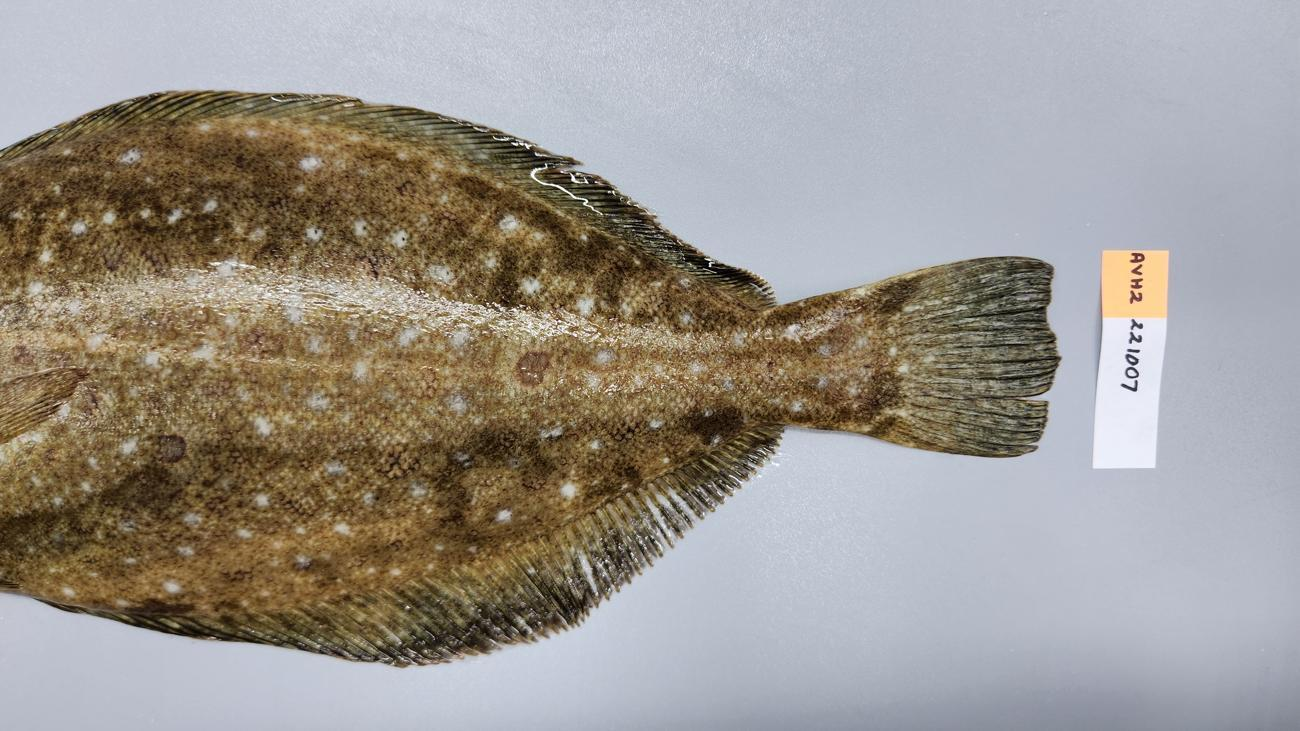VIDYH: (507, 228, 902, 508), (194, 319, 297, 407), (313, 216, 392, 285)
VIFCH: (914, 375, 978, 453)
